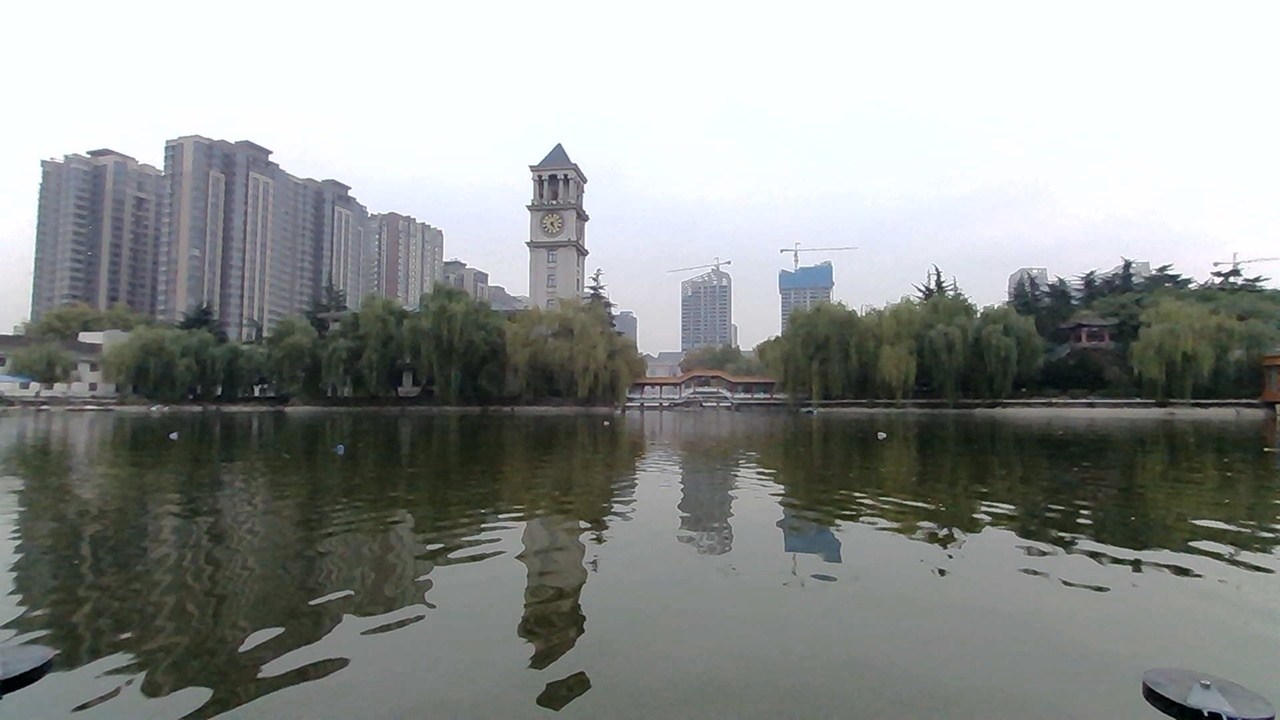bottle: (862, 424, 900, 445), (325, 440, 359, 462), (164, 417, 185, 445)
